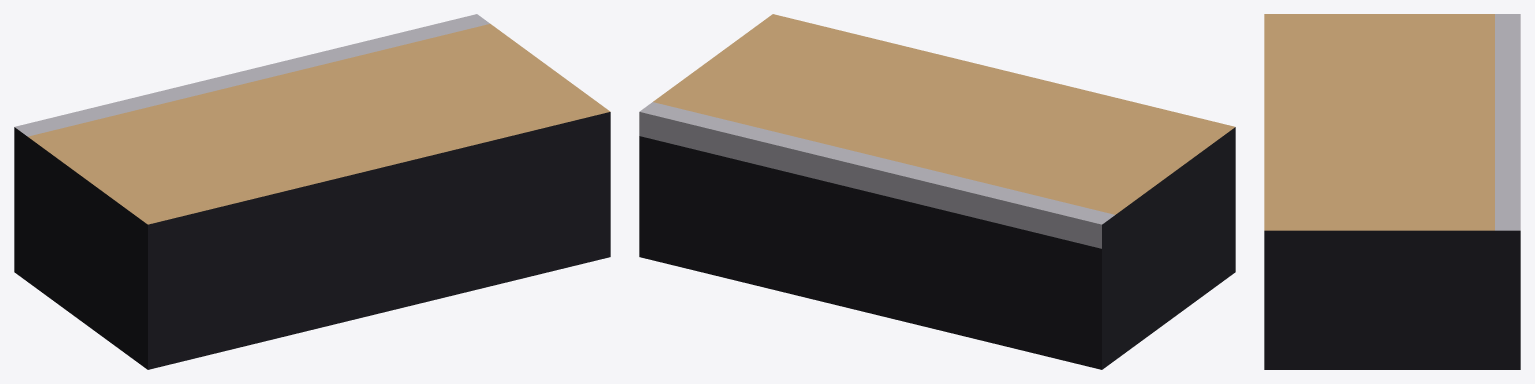
The model's file is ManPad_Half_3_OneGrind.fbx.
3 renders of one model, left to right at view 1: azimuth 30°, elevation 25°; view 2: azimuth 150°, elevation 25°; view 3: azimuth 270°, elevation 25°, orthographic. The views are drawn at different scales.
Visible parts, largest first — view 1: ManPad_Half_3_OneGrind; view 2: ManPad_Half_3_OneGrind; view 3: ManPad_Half_3_OneGrind.
Part boxes in pixels (x1,y1,x2,y2): ManPad_Half_3_OneGrind: (14, 14, 610, 369); ManPad_Half_3_OneGrind: (639, 14, 1235, 369); ManPad_Half_3_OneGrind: (1264, 14, 1520, 369).
Size of the model in its own units: 10 by 3 by 5.
